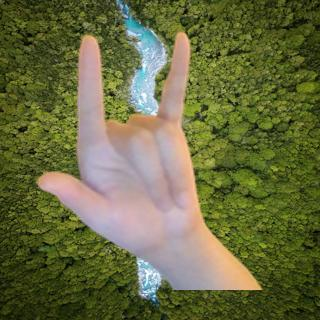ILY: (26, 23, 217, 262)
